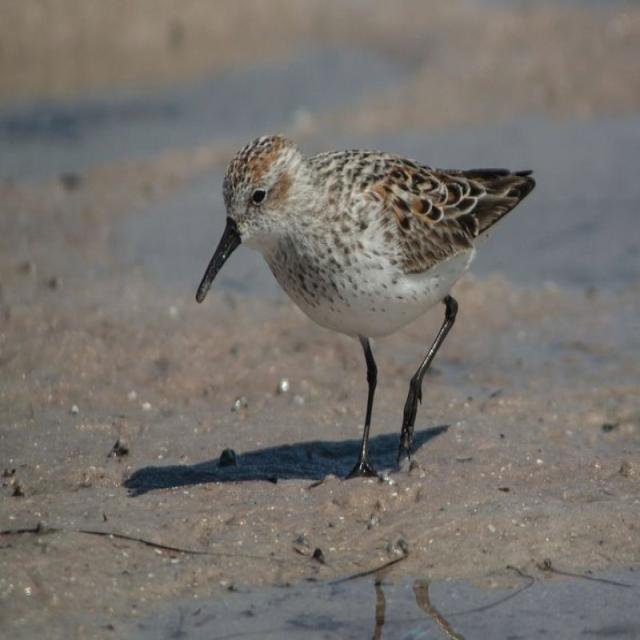sandpiper: (196, 135, 534, 475)
